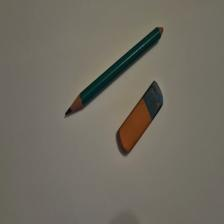eraser: (119, 81, 165, 154)
pencil: (66, 27, 164, 116)
